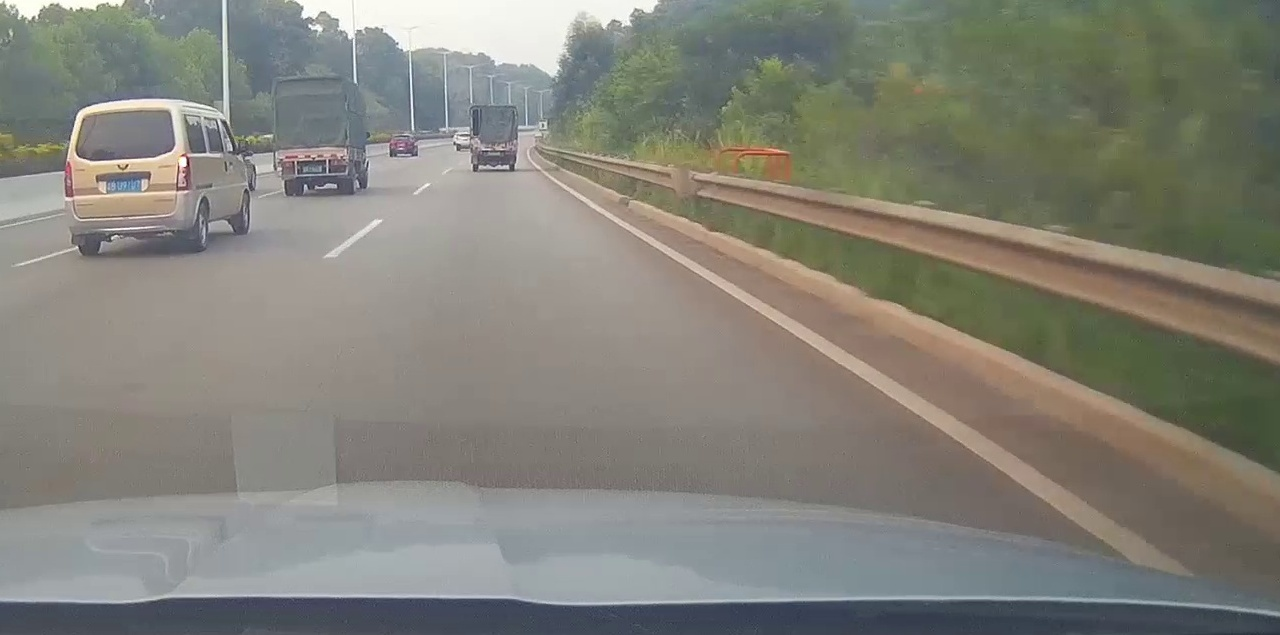L_light: (64, 161, 74, 197), (278, 161, 295, 168), (473, 151, 483, 156)
R_light: (175, 153, 191, 191), (329, 159, 347, 166), (505, 151, 516, 156)
T_light: (112, 112, 136, 118), (302, 147, 319, 153), (487, 140, 499, 144)
day-no: (271, 74, 351, 196), (469, 104, 518, 172)
day-right: (63, 98, 192, 255)
